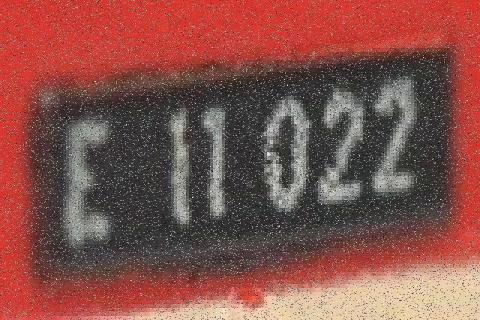LicensePlate: (24, 35, 461, 270)
